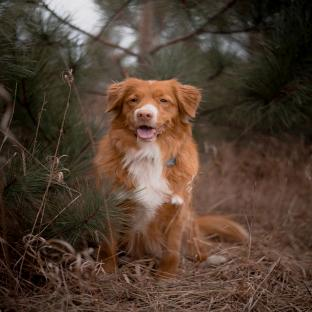Animal: (94, 78, 247, 280)
